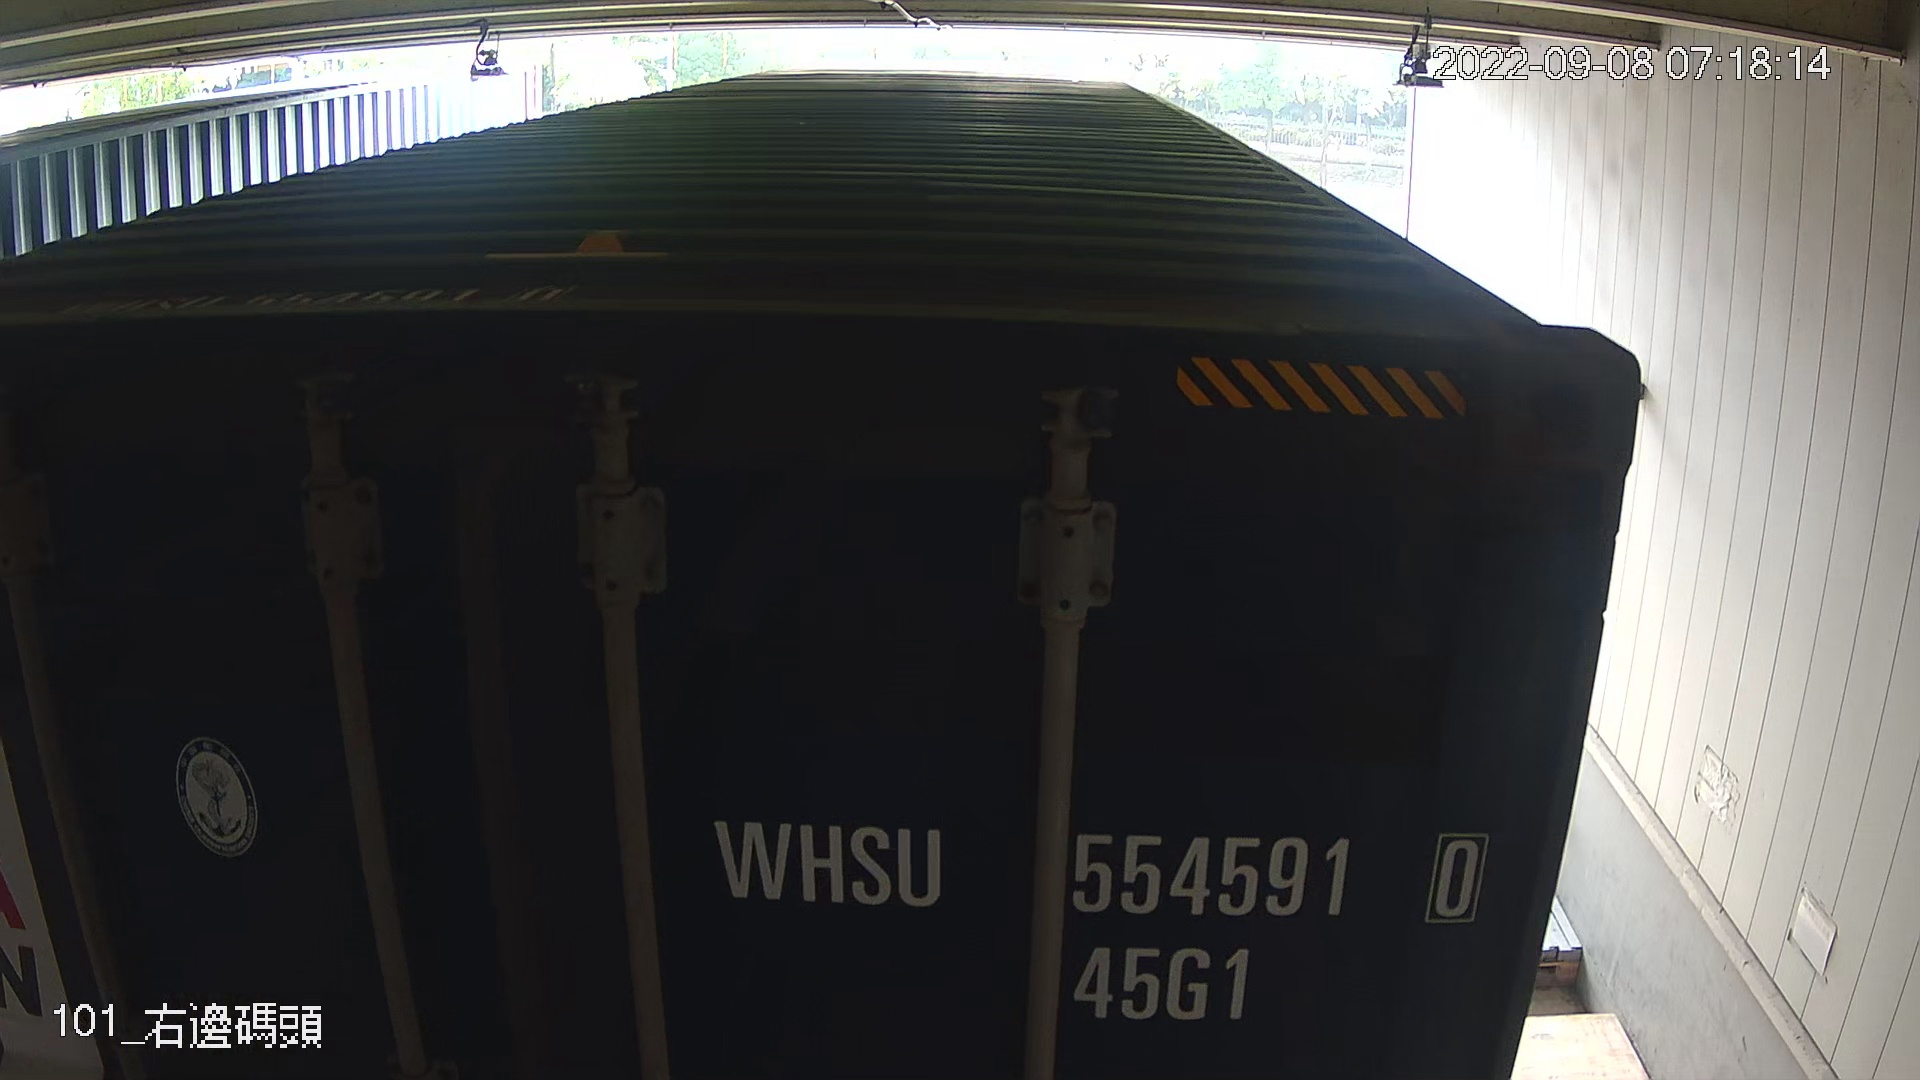container: (692, 791, 1495, 1044)
